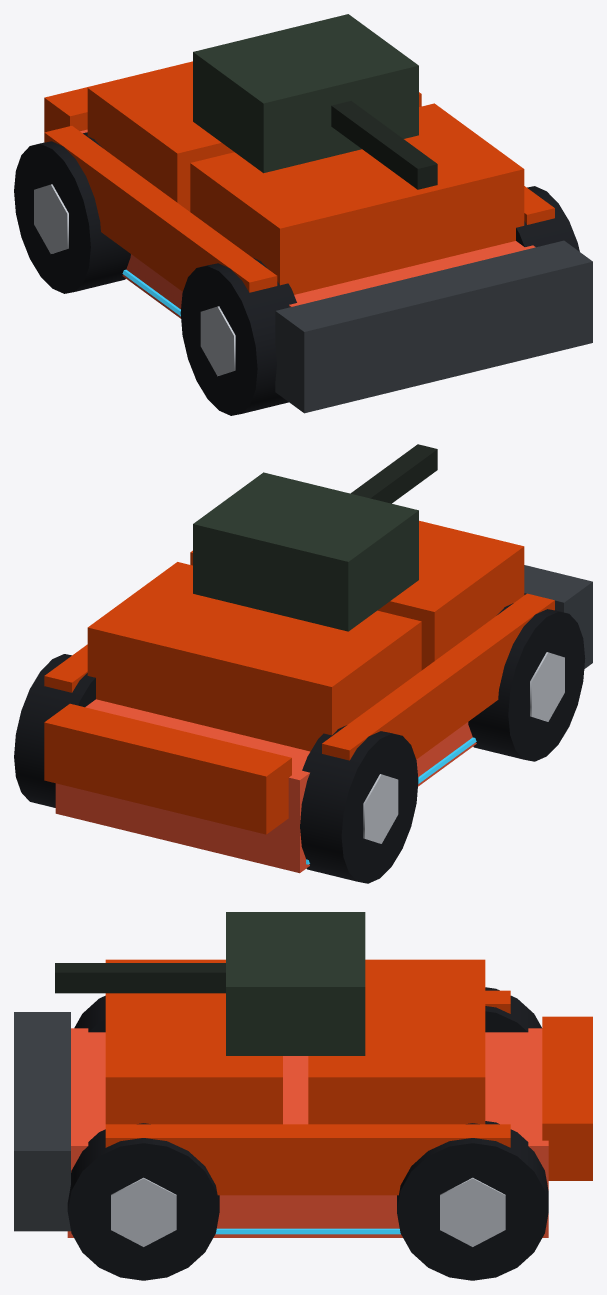
File: bot_tank.glb
The picture shows the model from 3 angles, top to bottom: view 1: azimuth 30°, elevation 25°; view 2: azimuth 150°, elevation 25°; view 3: azimuth 270°, elevation 25°; orthographic projection.
Parts seen in each view (by area): view 1: bot_tank; view 2: bot_tank; view 3: bot_tank.
Boxes of the visible parts, x1=… form: bot_tank: x1=14, y1=14, x2=592, y2=415; bot_tank: x1=14, y1=444, x2=592, y2=883; bot_tank: x1=14, y1=912, x2=592, y2=1280.
Bounding box in the file's own units: 2.98 × 2.2 × 4.57.
